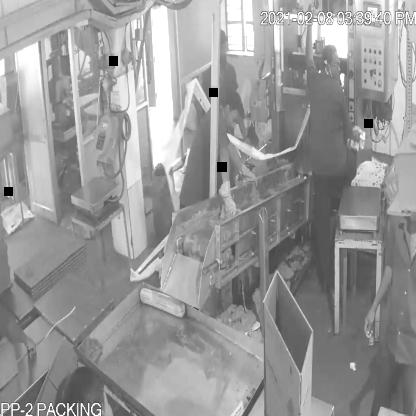no_glove: (356, 240, 396, 339)
